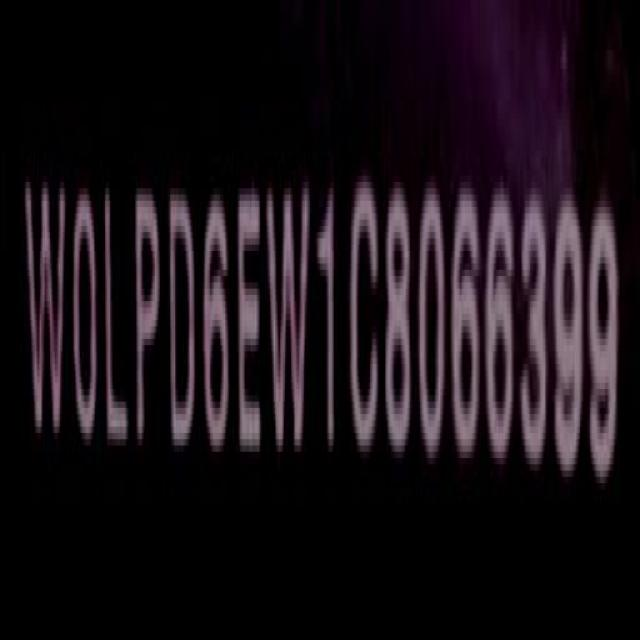0: (418, 177, 448, 460), (71, 180, 100, 454)
1: (318, 173, 341, 462)
3: (520, 192, 550, 475)
6: (448, 174, 481, 464), (485, 182, 516, 468), (205, 182, 234, 460)
8: (386, 175, 416, 461)
9: (589, 205, 623, 488), (551, 191, 584, 482)
C: (348, 176, 383, 461)
D: (167, 185, 200, 459)
E: (235, 184, 264, 463)
L: (103, 184, 132, 458)
P: (135, 182, 162, 458)
W: (263, 186, 314, 453), (27, 176, 66, 451)
